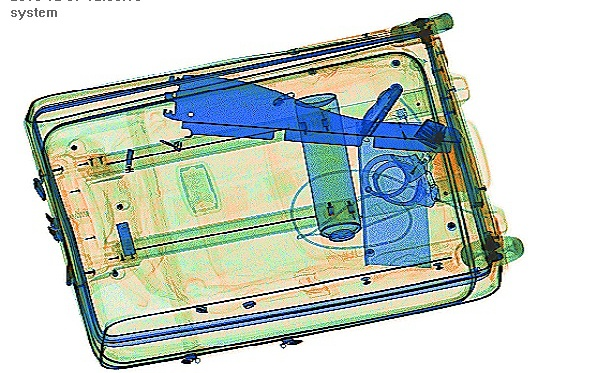handcuffs: (361, 149, 438, 208)
knife: (357, 81, 403, 139)
lighter: (389, 105, 424, 161)
pressure: (291, 91, 372, 268)
